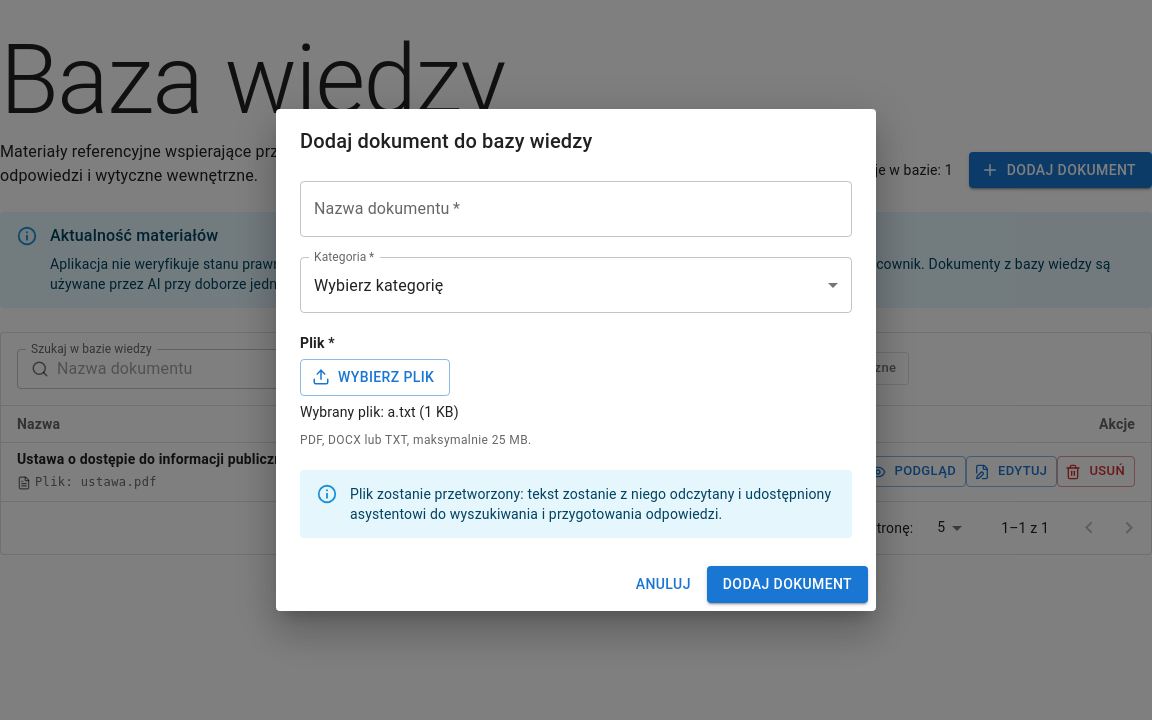
Test case: KnowledgePage › shows a server error for a file that is too large and keeps the form open
Earlier steps of the test are not shown.
In the field labelled "Nazwa dokumentu *": (576, 209) [300, 181, 852, 237], type "A"
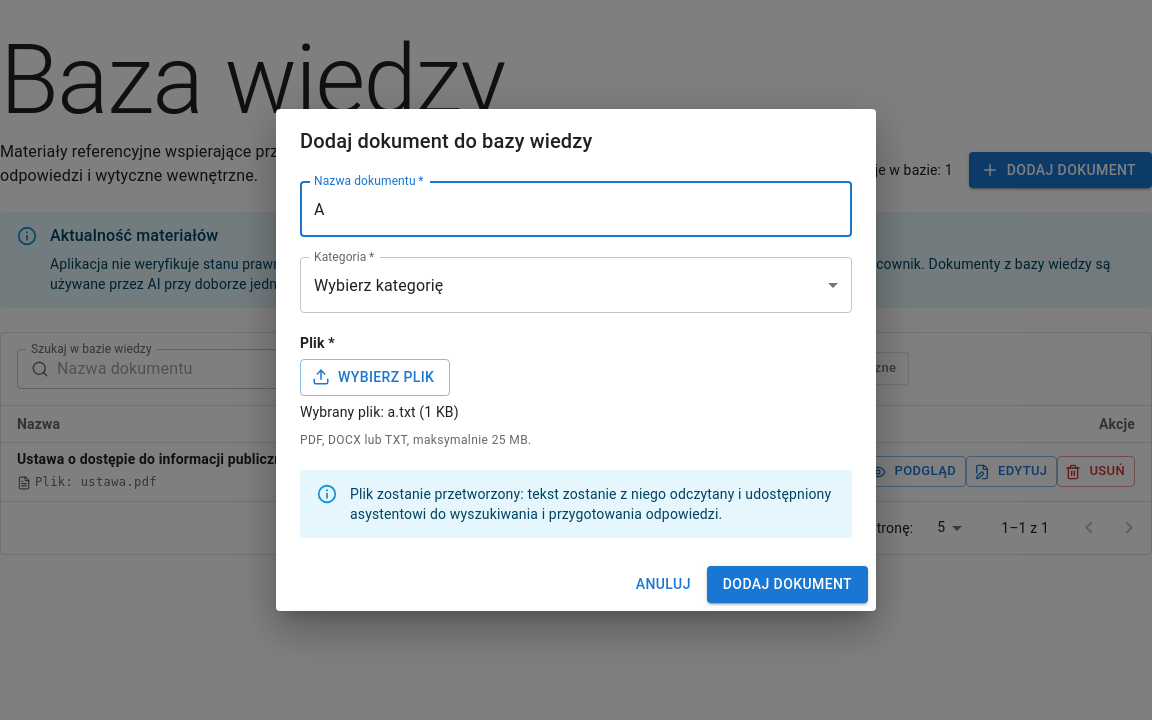
Select "Akt prawny" in the dropdown labelled "Kategoria *": (576, 285) [300, 257, 852, 313]
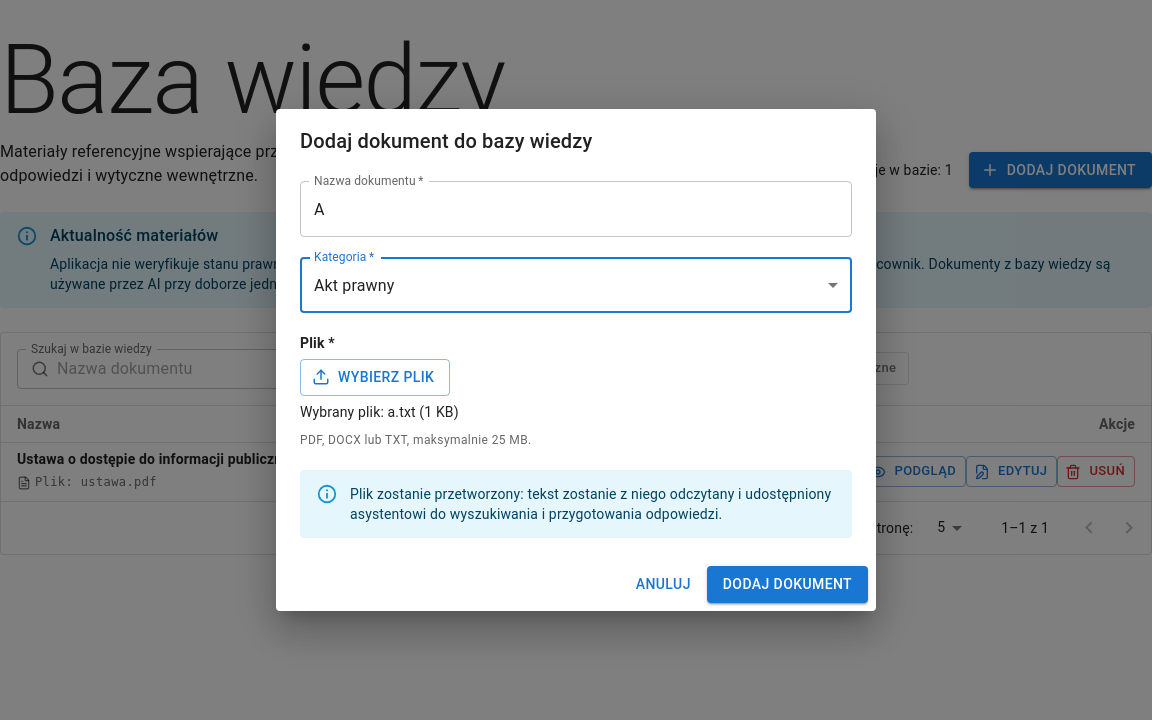
Click the button "Dodaj dokument": (787, 585) [707, 566, 868, 603]
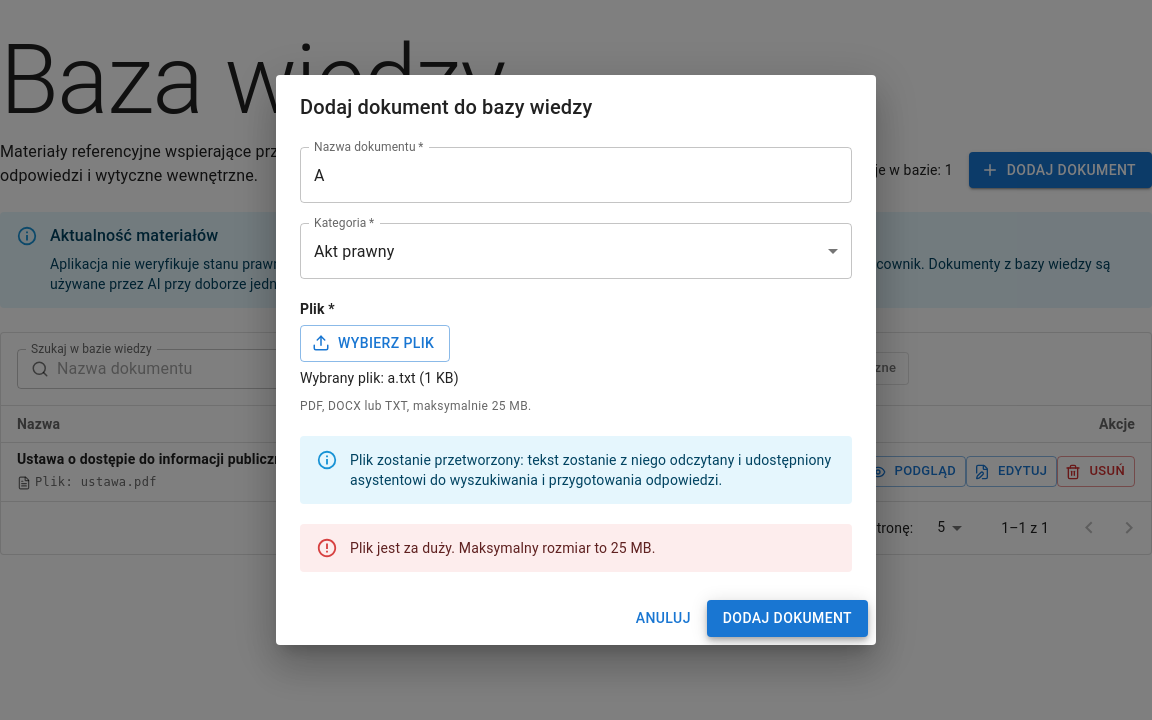
Expected: the text "Plik jest za duży. Maksymalny rozmiar to 25 MB." is shown, [350, 540, 656, 556]
